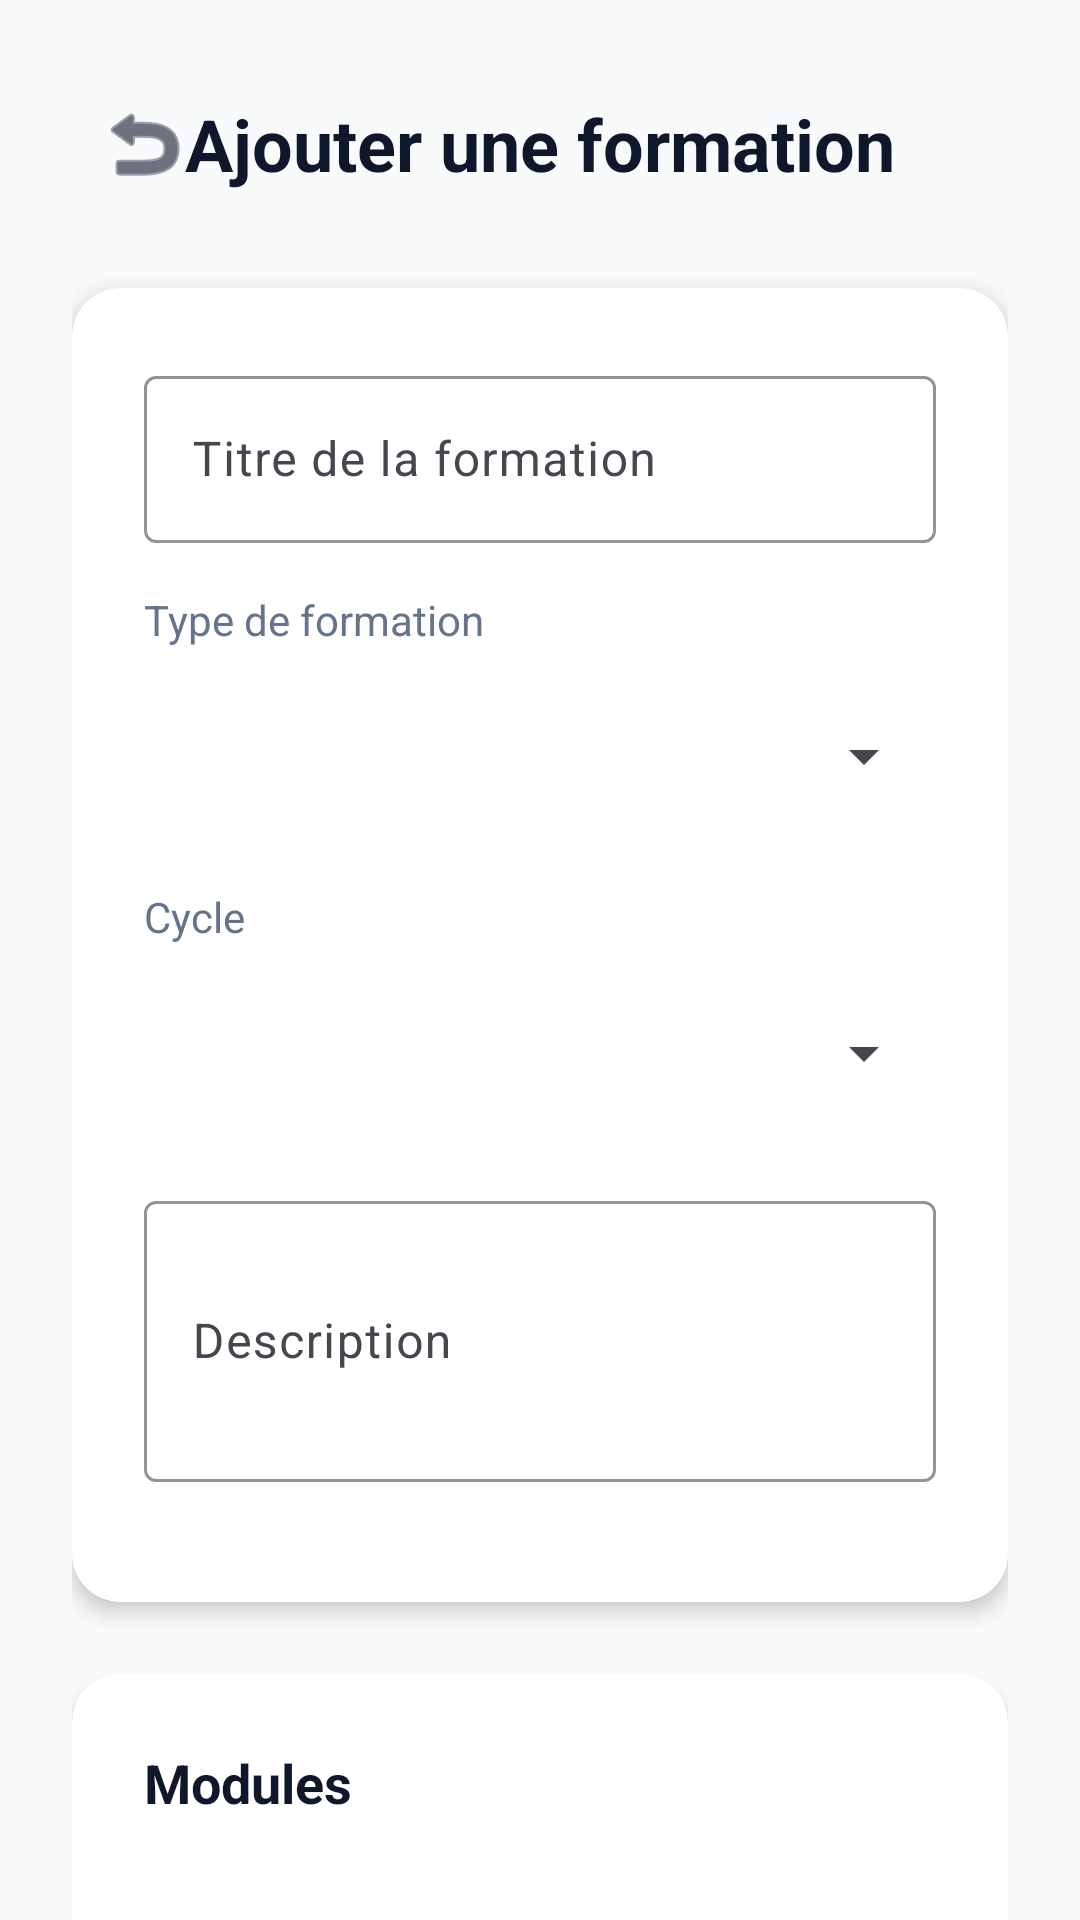

Icons on this 1080x1920 Android screen, each with its box as {"x1": x1, "y1": y1, "x2": x2, "y2": y2}:
Retour: {"x1": 111, "y1": 113, "x2": 180, "y2": 176}
